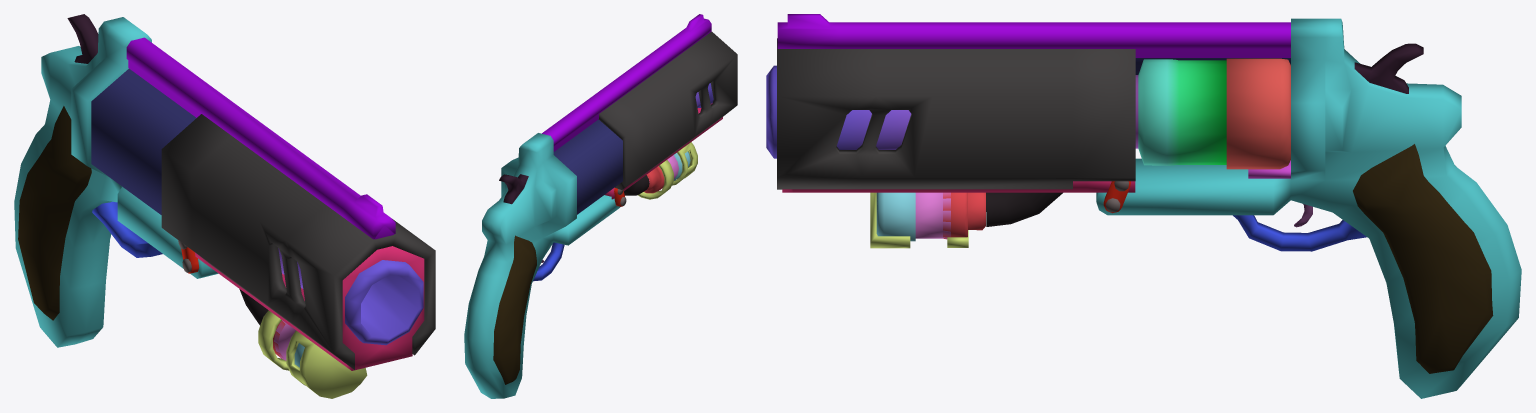
Rendered from PlasmaCannon.fbx.
The picture shows the model from 3 angles, left to right: view 1: azimuth 30°, elevation 25°; view 2: azimuth 150°, elevation 25°; view 3: azimuth 270°, elevation 25°; orthographic projection. The views are drawn at different scales.
Visible parts, largest first — view 1: PlasmaCannon; view 2: PlasmaCannon; view 3: PlasmaCannon.
Part boxes in pixels (box(x1,y1,x2,y2)): PlasmaCannon: box(14, 14, 435, 398); PlasmaCannon: box(464, 14, 737, 398); PlasmaCannon: box(766, 14, 1521, 398).
Bounding box in the file's own units: 0.1159 × 0.3926 × 0.7161.
